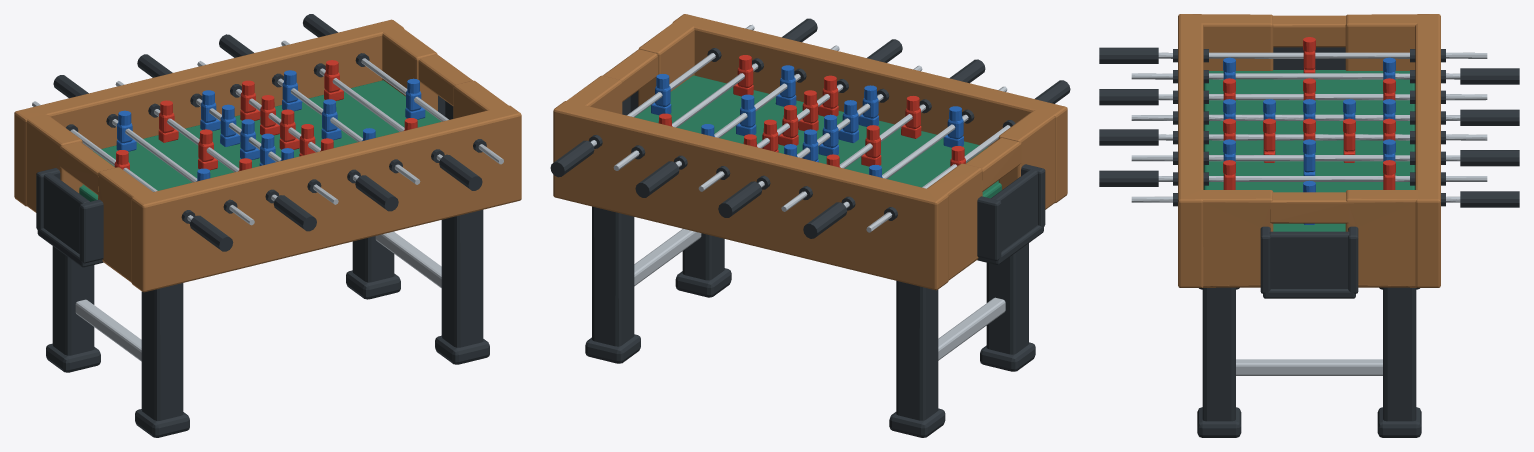
Rendered from NEW_RECOVERY_128_LOD1.fbx.
3 views of the same model, side by side, from view 1: azimuth 30°, elevation 25°; view 2: azimuth 150°, elevation 25°; view 3: azimuth 270°, elevation 25° (orthographic).
Parts seen in each view (by area): view 1: Foosball_static_LOD1; view 2: Foosball_static_LOD1; view 3: Foosball_static_LOD1.
Part boxes in pixels (x1,y1,x2,y2): Foosball_static_LOD1: [14, 14, 521, 437]; Foosball_static_LOD1: [550, 14, 1070, 437]; Foosball_static_LOD1: [1099, 14, 1519, 437].
Bounding box in the file's own units: 189 × 163 × 107.
